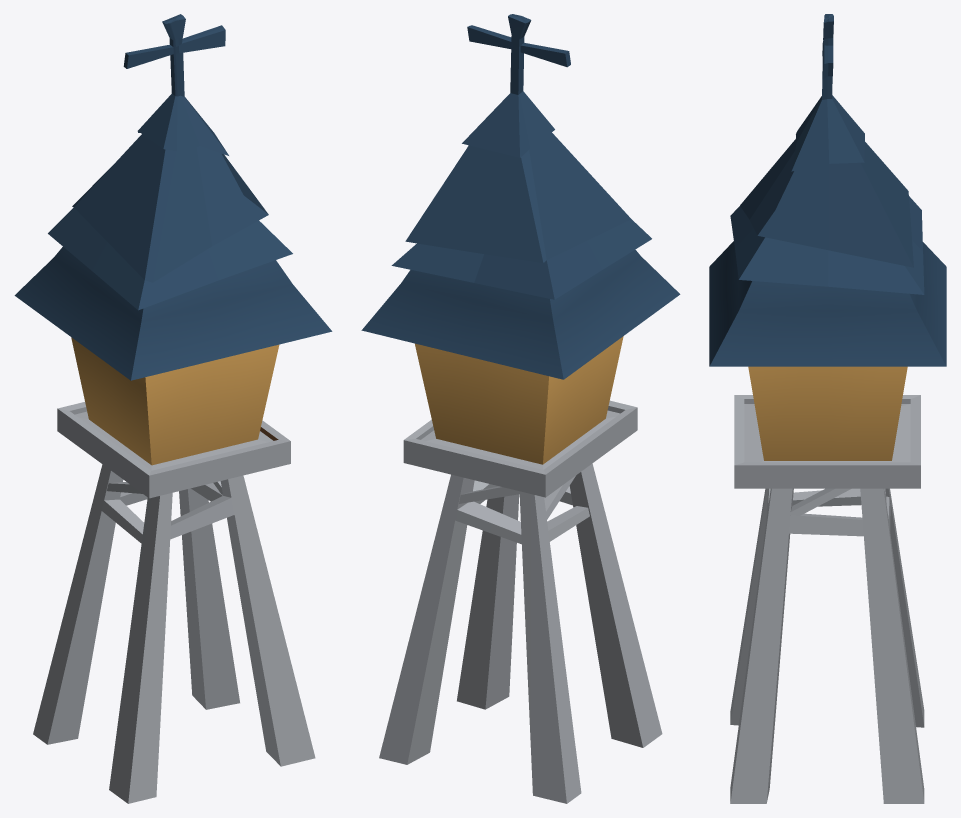
File: tank.gltf
3 views of the same model, side by side, from view 1: azimuth 30°, elevation 25°; view 2: azimuth 150°, elevation 25°; view 3: azimuth 270°, elevation 25° (orthographic).
Parts seen in each view (by area): view 1: Cube; view 2: Cube; view 3: Cube.
Part boxes in pixels (x1=…): Cube: x1=14, y1=14, x2=332, y2=803; Cube: x1=361, y1=14, x2=680, y2=803; Cube: x1=709, y1=14, x2=946, y2=803.
Bounding box in the file's own units: 0.8494 × 2.93 × 0.8494.
Materials: 1 (1 with a texture image).
